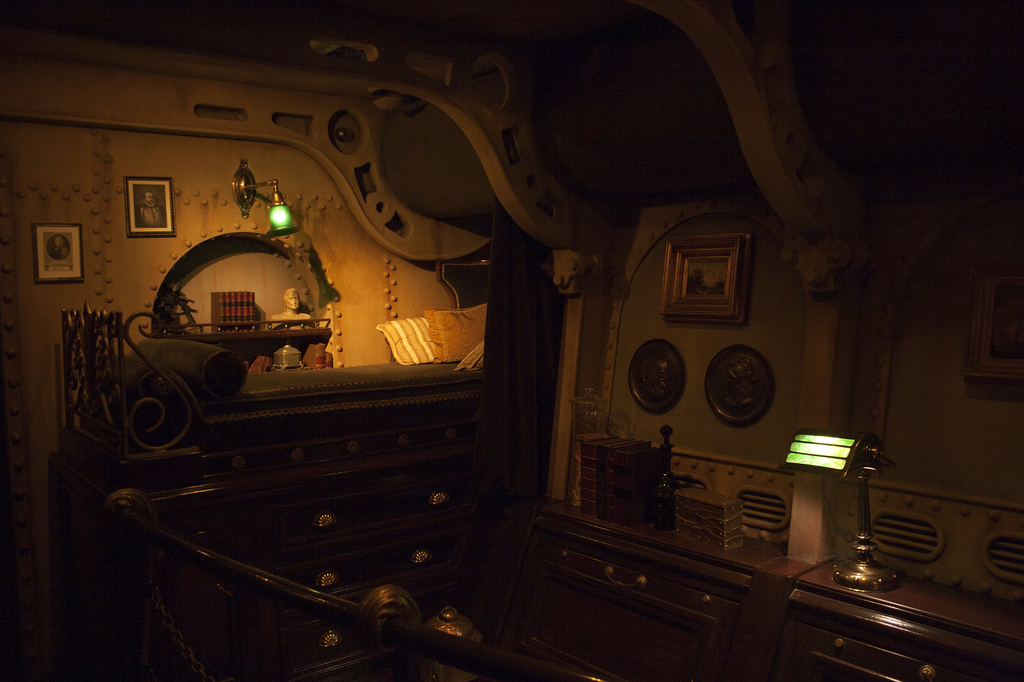cabinet door: (292, 551, 452, 594), (289, 492, 454, 533)
handle: (314, 569, 340, 595), (428, 490, 454, 512), (310, 509, 335, 529), (410, 547, 426, 565)
